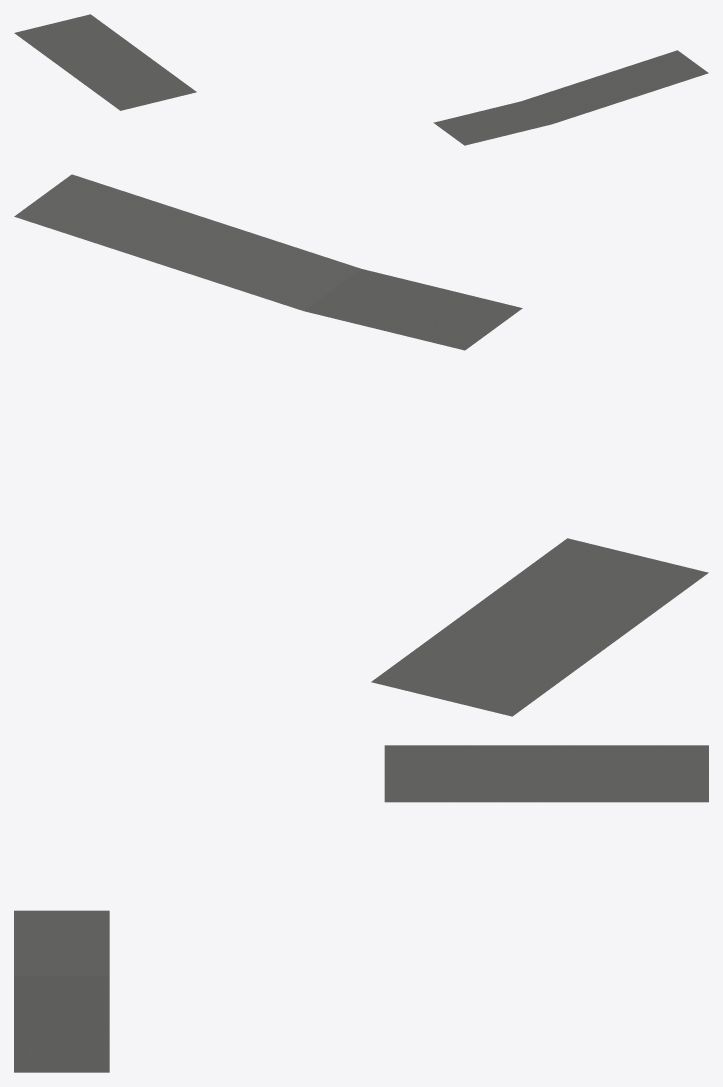
Rendered from kd_stage_135ded_1_11_exterior.glb.
The picture shows the model from 3 angles, top to bottom: view 1: azimuth 30°, elevation 25°; view 2: azimuth 150°, elevation 25°; view 3: azimuth 270°, elevation 25°; orthographic projection. The views are drawn at different scales.
Parts seen in each view (by area): view 1: kd_stage_135ded_1_11_exterior; view 2: kd_stage_135ded_1_11_exterior; view 3: kd_stage_135ded_1_11_exterior.
Boxes of the visible parts, x1,y1,x2,y2 form: kd_stage_135ded_1_11_exterior: (14, 14, 708, 145); kd_stage_135ded_1_11_exterior: (14, 174, 708, 716); kd_stage_135ded_1_11_exterior: (14, 745, 708, 1072).
Size of the model in its own units: 12.47 by 0.3296 by 10.56.
Materials: 1 (1 with a texture image).
